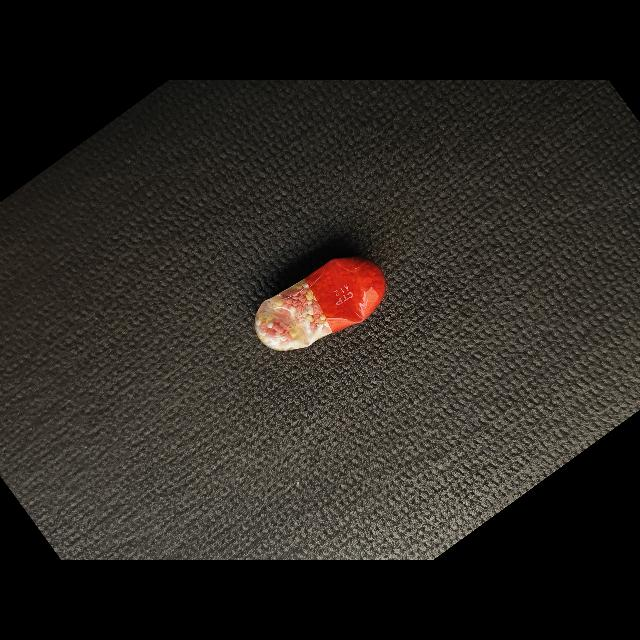Defective Capsule: (255, 257, 386, 351)
